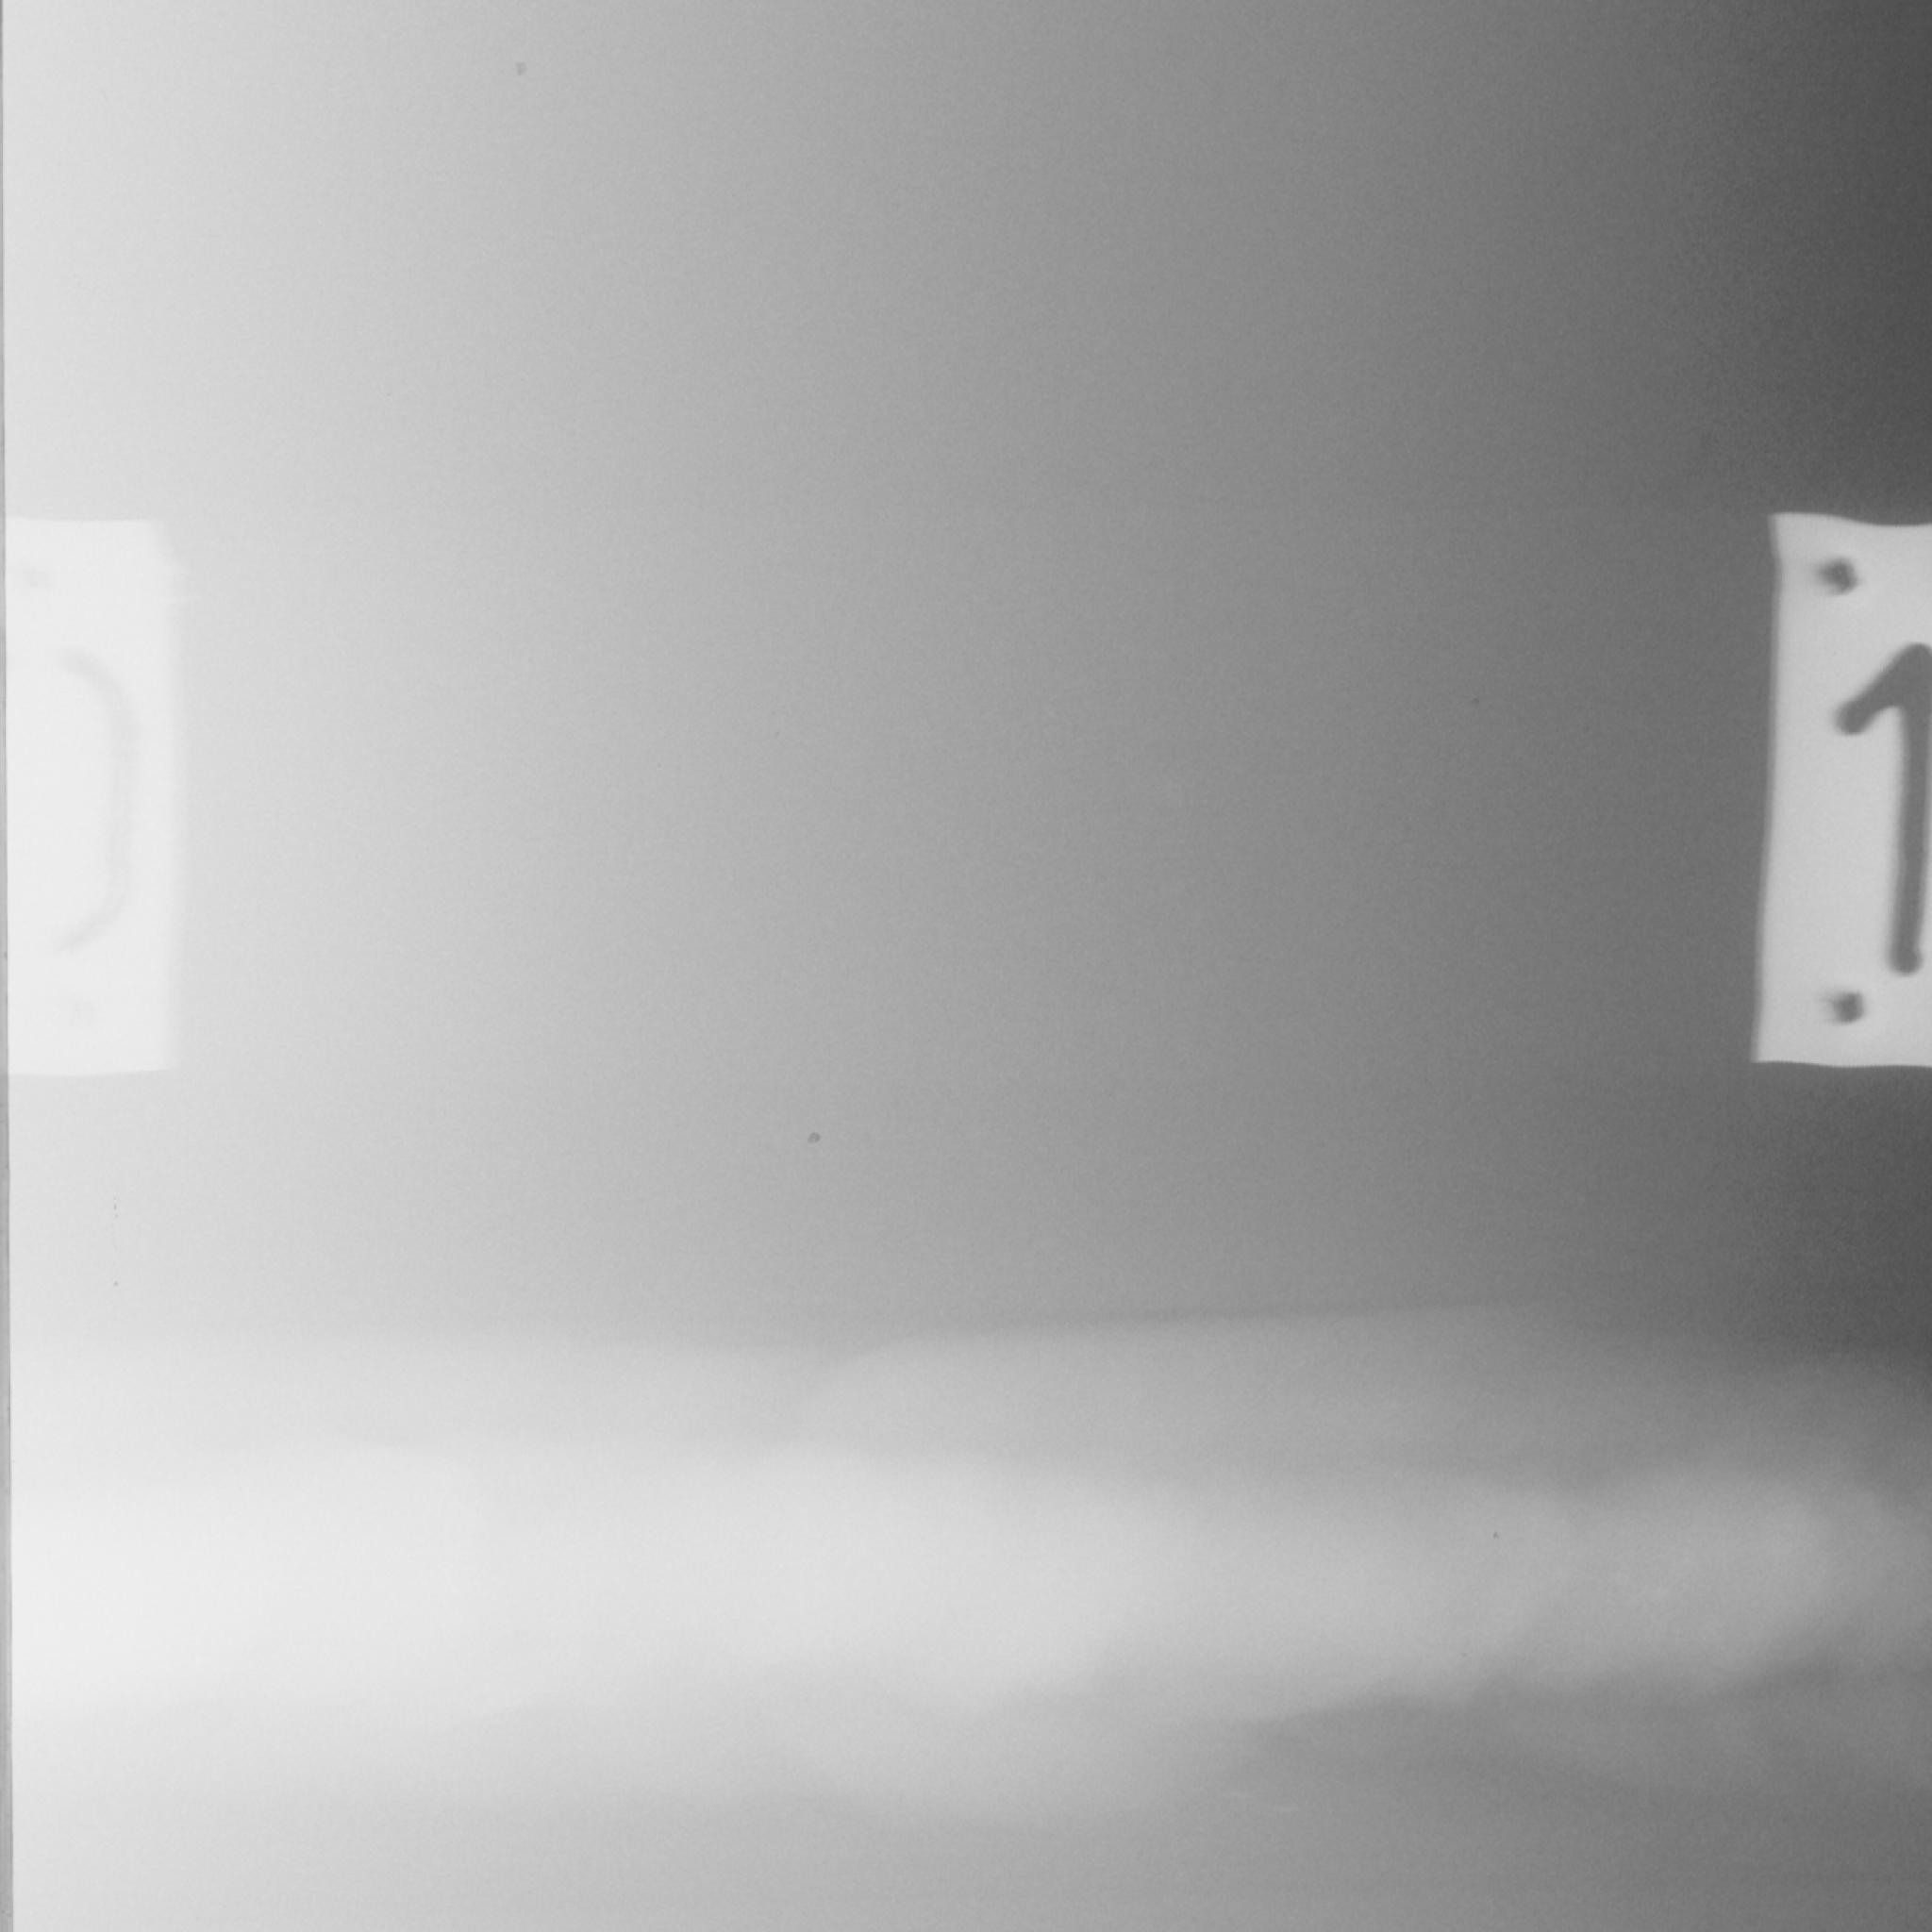PO: (791, 1106, 842, 1164), (88, 1180, 138, 1231), (101, 1270, 129, 1297), (1488, 1523, 1507, 1546)
